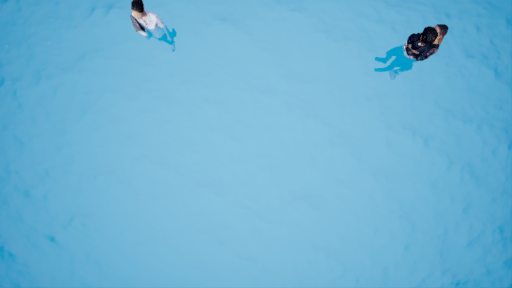person: (378, 23, 466, 83), (121, 1, 186, 55)
